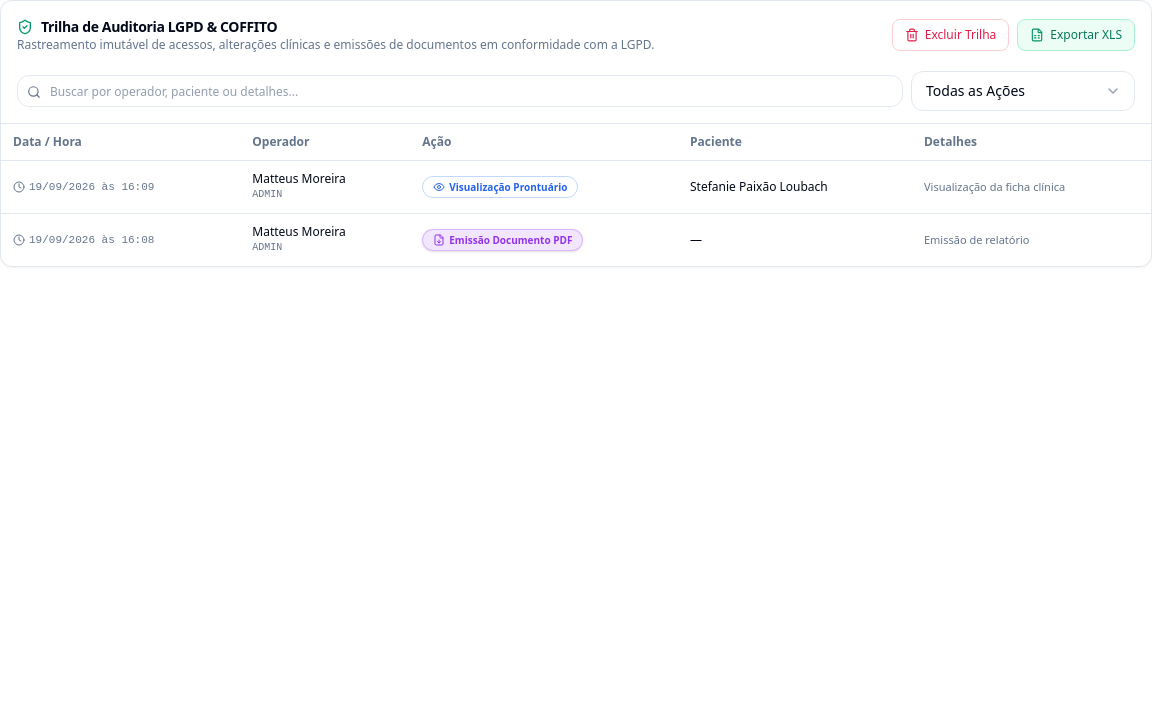
clicking Excluir Trilha opens confirmation modal and canceling does not clear logs
This screenshot has width=1152, height=720.
Note: Abre modal
Click the button "Excluir Trilha": (950, 35) [892,19,1009,51]
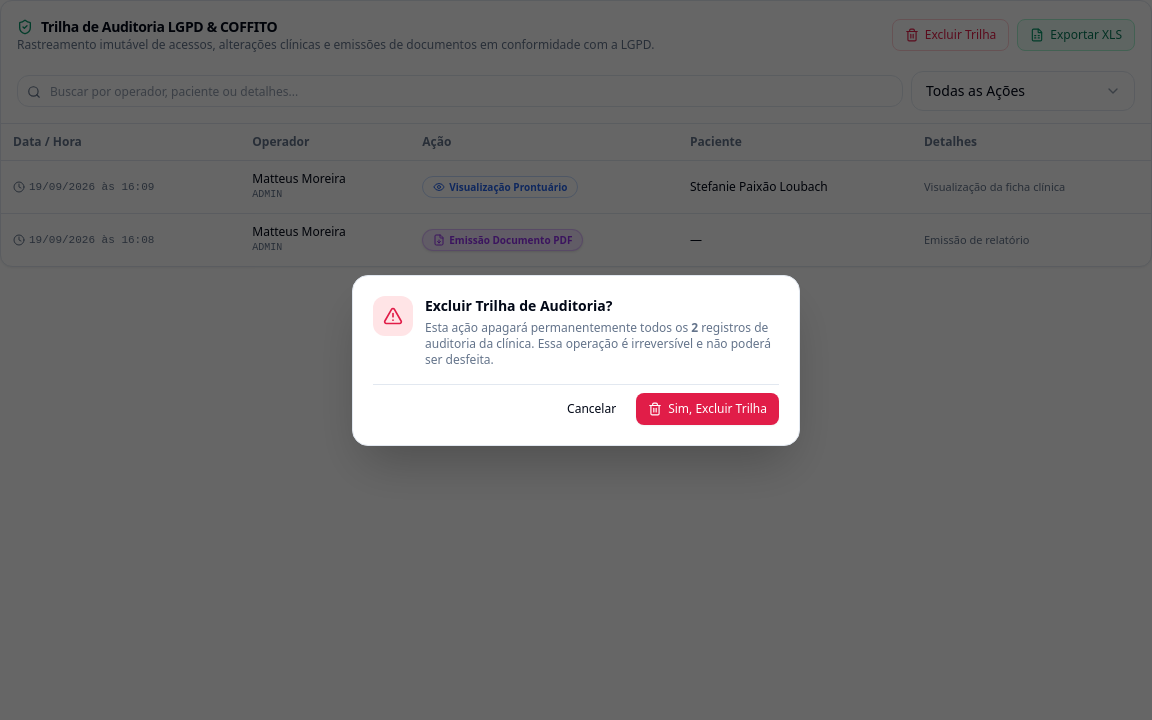
Now the heading "Excluir Trilha de Auditoria?" is shown, box [425,296,612,314]
Now the text "Esta ação apagará permanentemente todos os" is shown, box [425,318,691,336]
Click the button "Cancelar": (592, 408) [555,392,628,424]
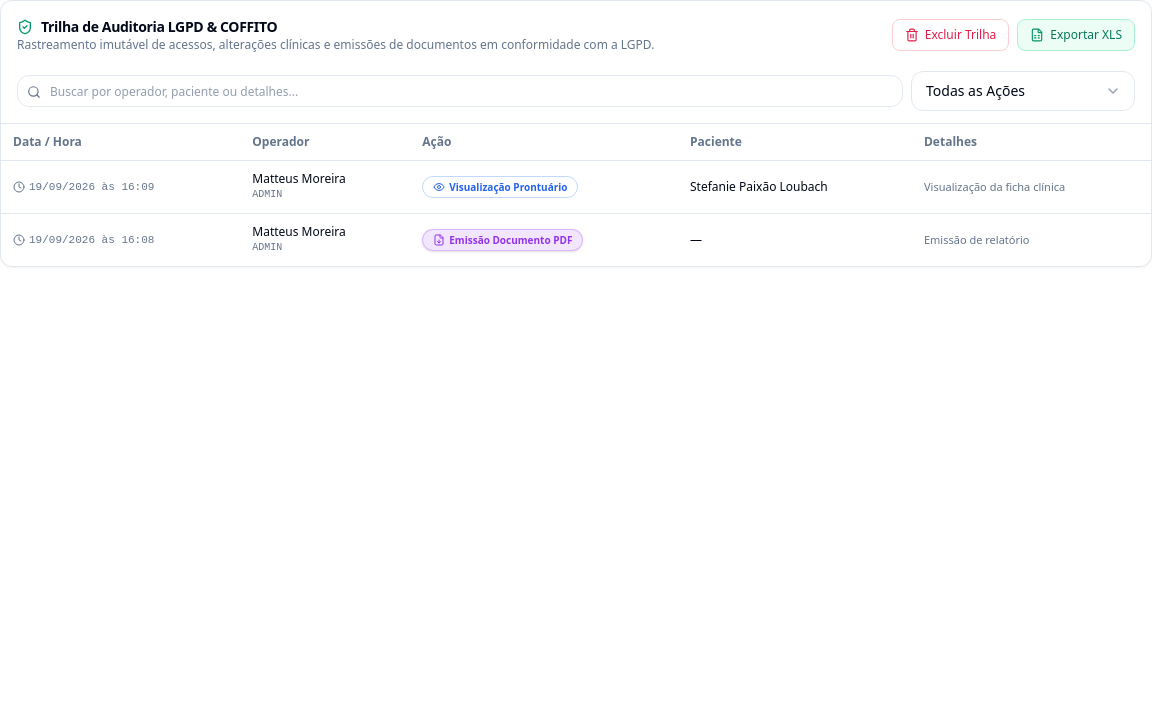
Now the heading "Excluir Trilha de Auditoria?" is gone
